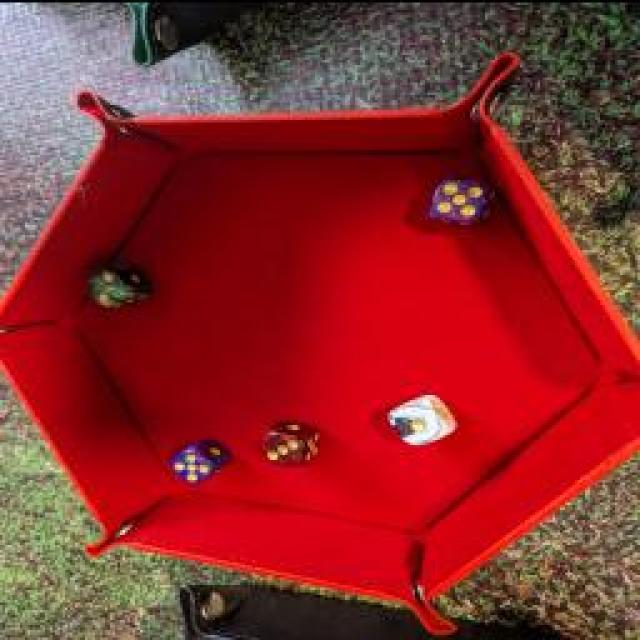dice_1: (382, 390, 460, 445)
dice_2: (82, 259, 150, 309)
dice_3: (259, 419, 329, 466)
dice_5: (424, 176, 498, 226), (165, 435, 233, 485)
